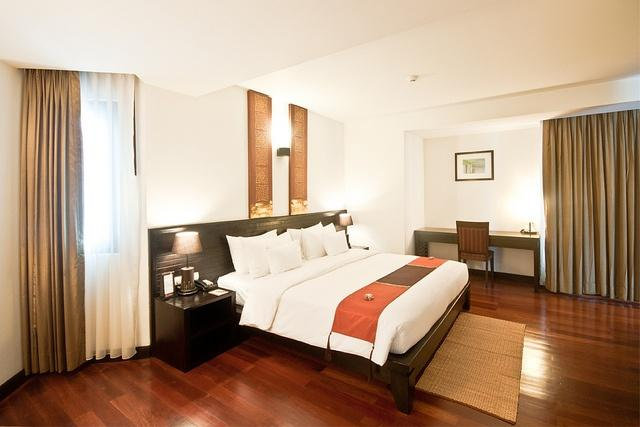Kursi: (455, 219, 494, 288)
Meja: (413, 225, 539, 254)
